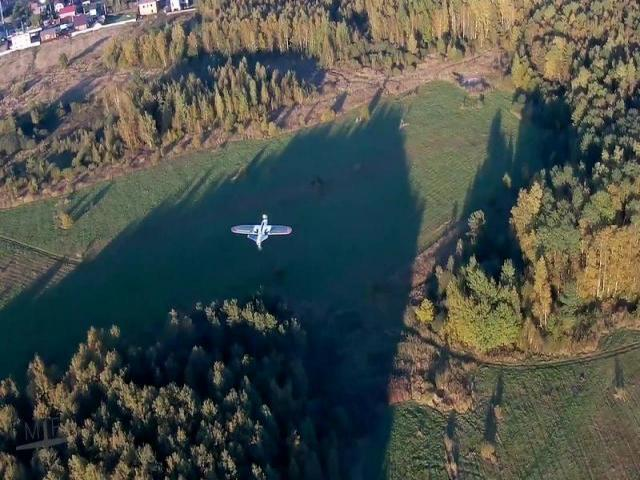hedef: (226, 215, 298, 255)
